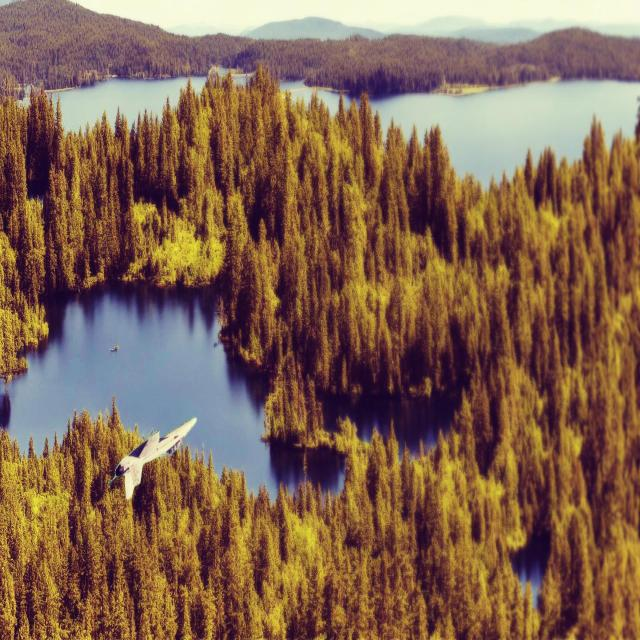airplane: (107, 416, 197, 503)
